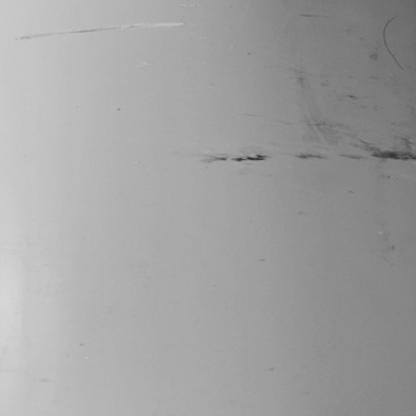sunshang: (12, 20, 188, 42), (383, 16, 413, 77)
